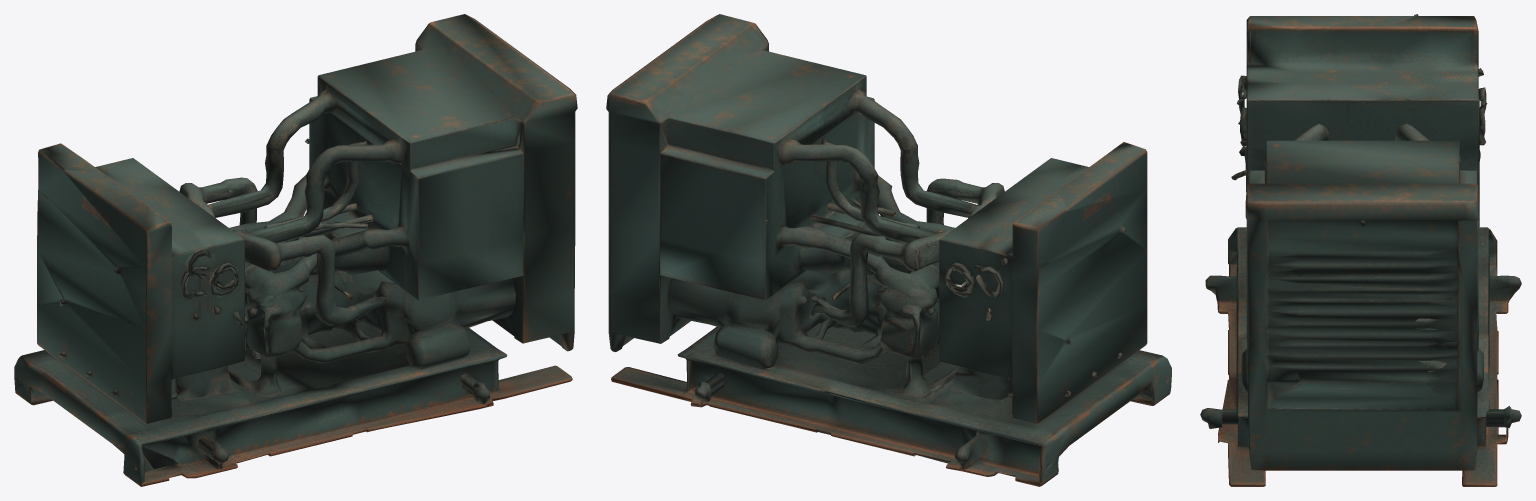
File: DieselGenerator.fbx
3 renders of one model, left to right at view 1: azimuth 30°, elevation 25°; view 2: azimuth 150°, elevation 25°; view 3: azimuth 270°, elevation 25°, orthographic. The views are drawn at different scales.
Visible parts, largest first — view 1: mesh_node; view 2: mesh_node; view 3: mesh_node.
Boxes of the visible parts, x1,y1,x2,y2 form: mesh_node: (14, 14, 577, 486); mesh_node: (606, 14, 1171, 486); mesh_node: (1200, 14, 1521, 486).
Bounding box in the file's own units: 191 × 114 × 114.
1 material, 1 textured.
